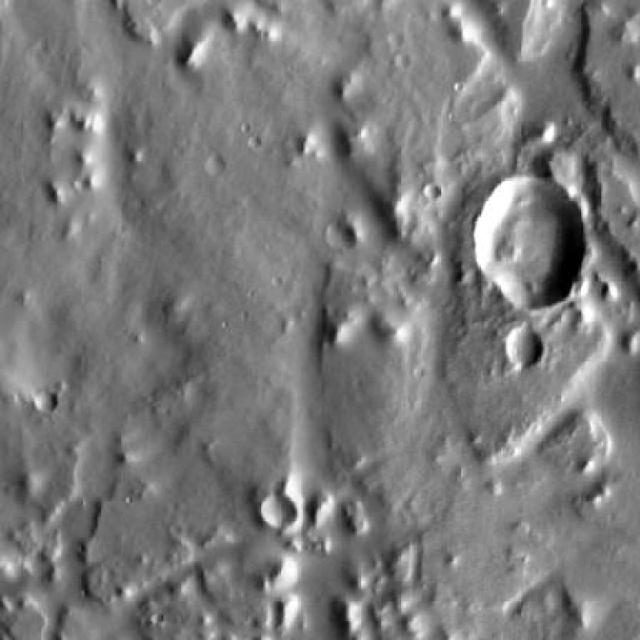crater: (468, 183, 594, 308), (298, 121, 344, 168), (506, 328, 546, 367), (259, 492, 298, 531), (36, 392, 56, 412), (204, 156, 224, 176), (424, 182, 442, 200)
